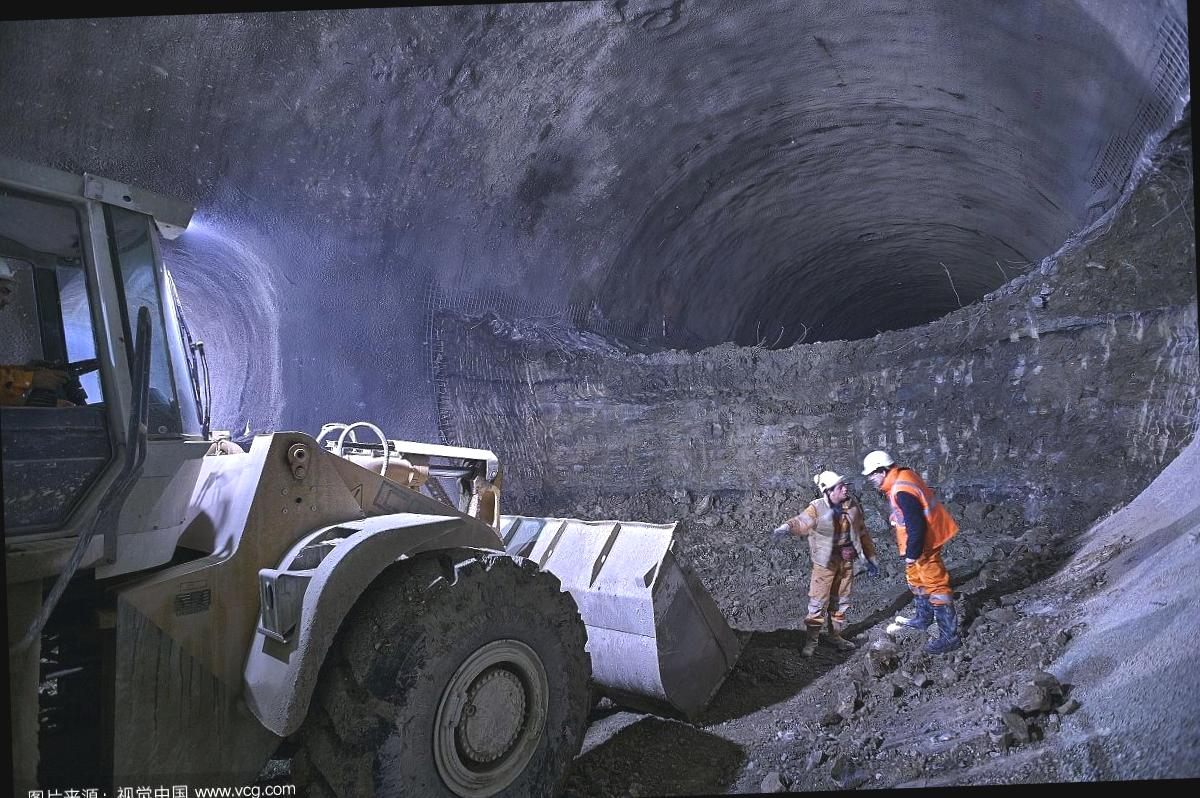helmet: (806, 461, 850, 500), (853, 444, 893, 484)
no_vest: (780, 490, 876, 604)
person: (771, 460, 877, 654), (860, 442, 967, 630)
